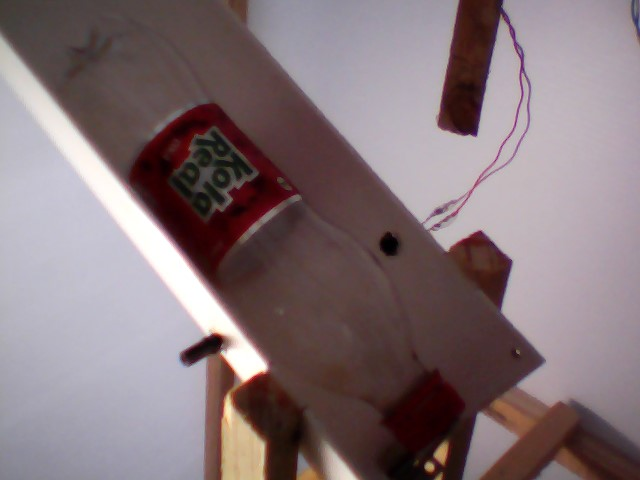plastico: (48, 9, 470, 459)
